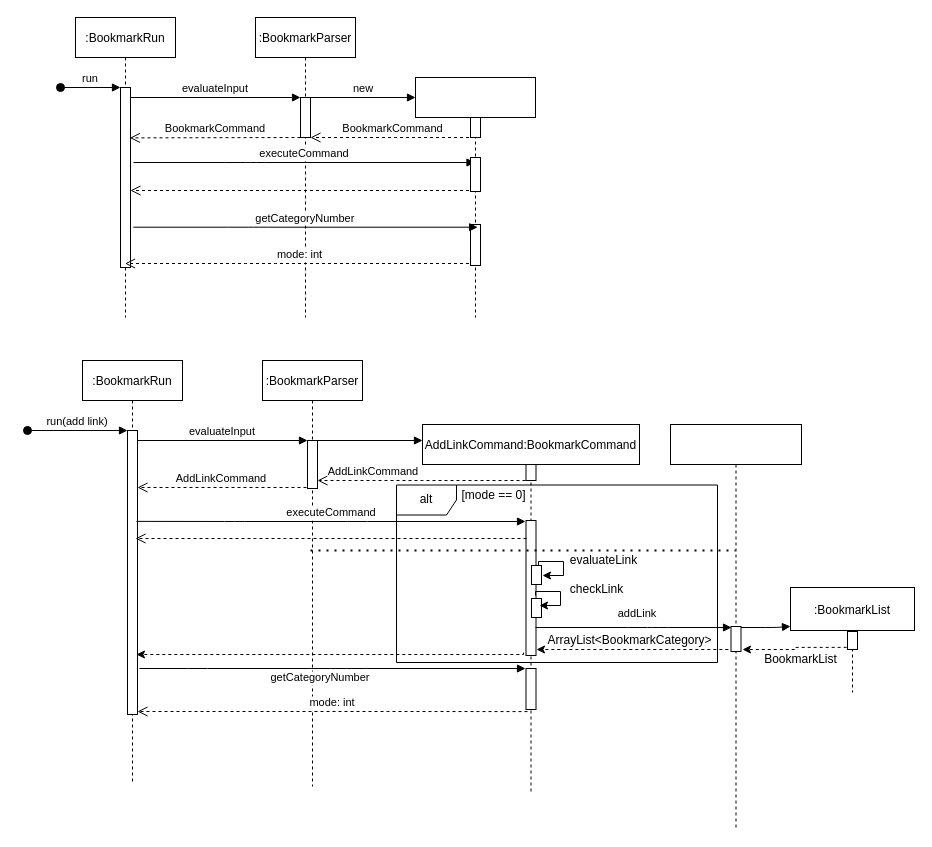
Image size: 932x847. Some labels were removed from this diagram. The centre of each missing label's shape, as x and y in pixels:
":BookmarkCategory" goes at point (736, 627).
":BookmarkCommand" goes at point (475, 197).
